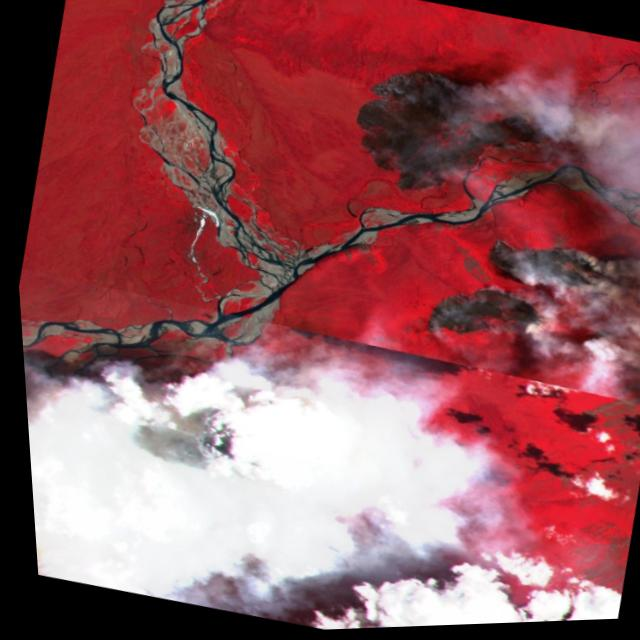fire: (80, 354, 346, 563), (330, 45, 575, 232), (399, 211, 640, 385)
